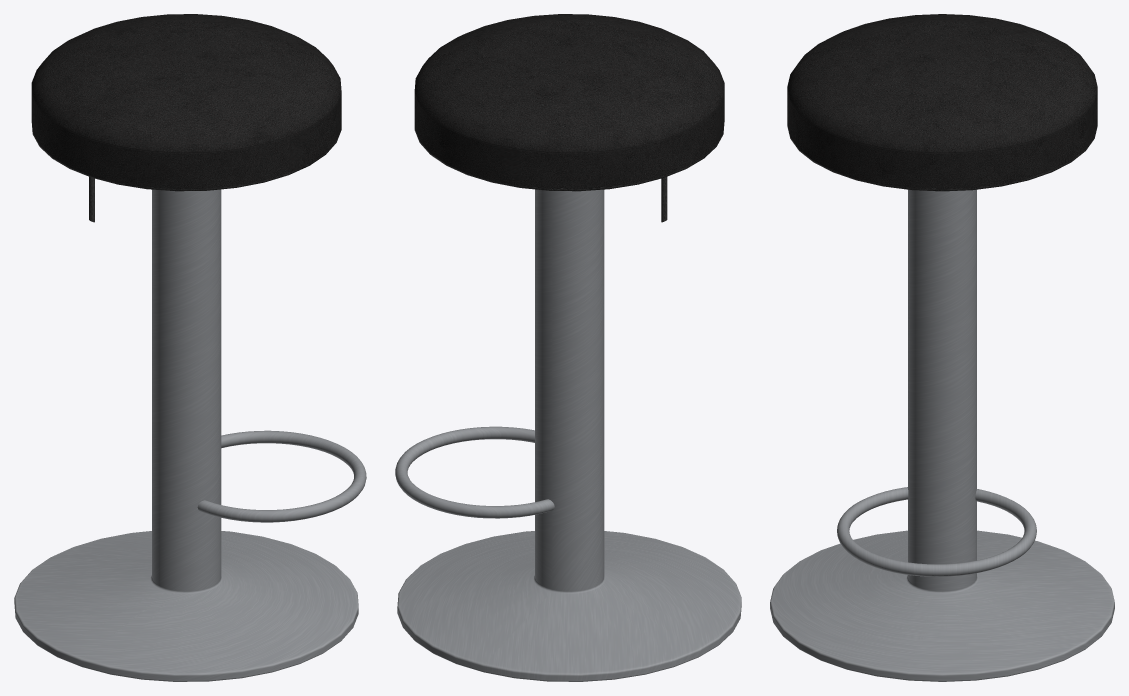
File: ElementSolo_Stool.glb
3 renders of one model, left to right at view 1: azimuth 30°, elevation 25°; view 2: azimuth 150°, elevation 25°; view 3: azimuth 270°, elevation 25°, orthographic.
Parts seen in each view (by area): view 1: Stool.001; view 2: Stool.001; view 3: Stool.001.
Part boxes in pixels (x1=…): Stool.001: x1=14, y1=14, x2=366, y2=681; Stool.001: x1=395, y1=14, x2=741, y2=681; Stool.001: x1=770, y1=14, x2=1114, y2=681.
Size of the model in its own units: 0.4203 by 0.7147 by 0.4011.
Materials: 1 (1 with a texture image).
